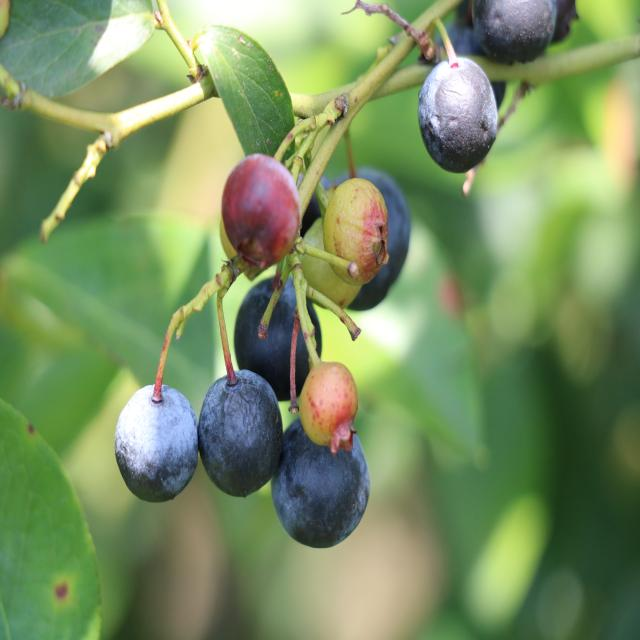blueberry: (267, 407, 373, 551), (330, 162, 416, 328), (194, 364, 288, 503), (230, 272, 326, 405), (111, 381, 202, 512), (416, 56, 502, 178), (431, 18, 508, 128), (469, 0, 565, 72), (282, 162, 336, 250)
blueberry-halfripe: (222, 153, 300, 255)
blueberry-unripe: (320, 176, 385, 277), (301, 363, 362, 447)
